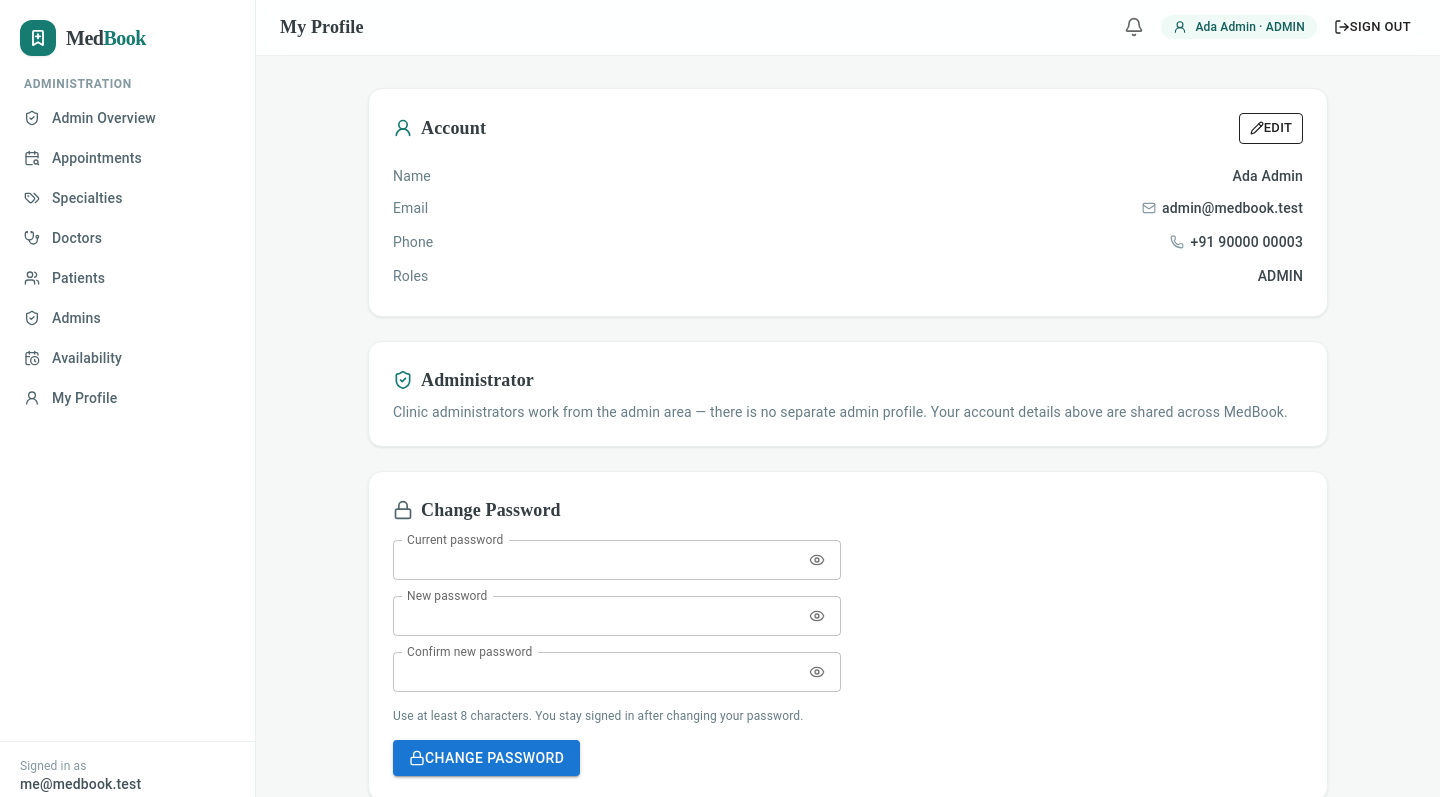
ProfilePage — account editing › cancels editing without saving
This screenshot has width=1440, height=797.
Click the button "Edit": {"x": 1271, "y": 128} [1239, 113, 1303, 144]
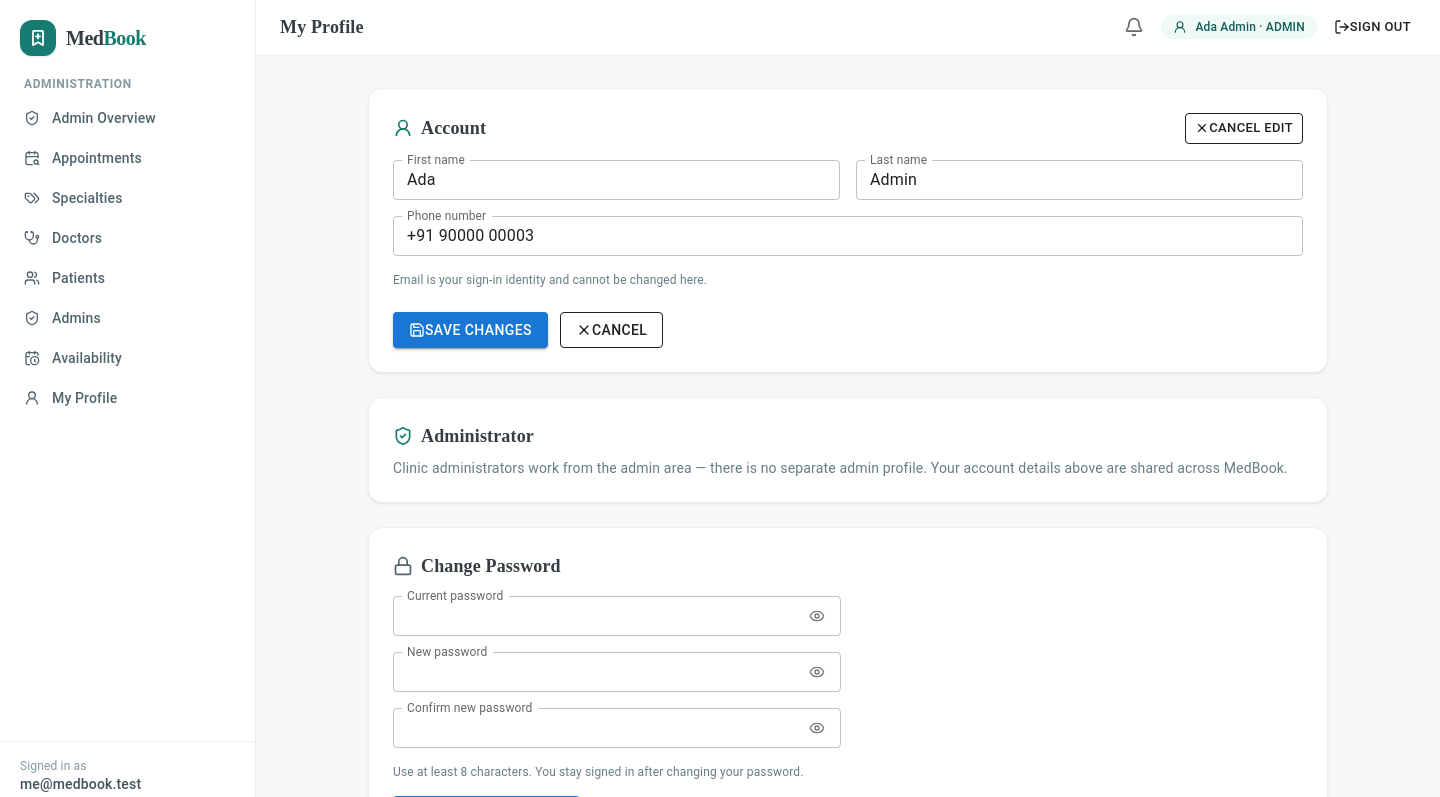
Replace the text in the field labelled "First name" with "Changed": {"x": 616, "y": 180} [393, 160, 840, 200]
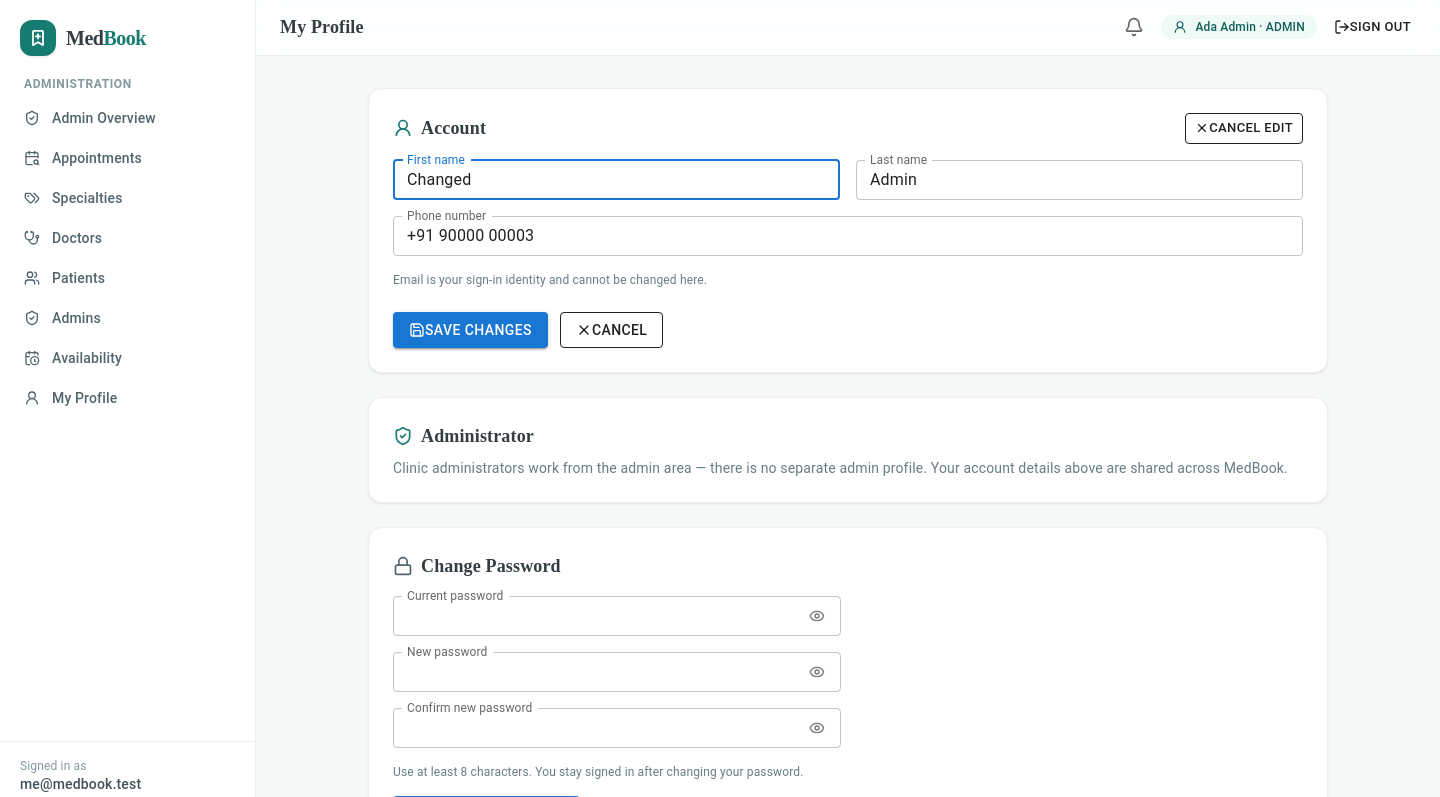
Click the button "Cancel Edit": {"x": 1244, "y": 128} [1185, 113, 1303, 144]
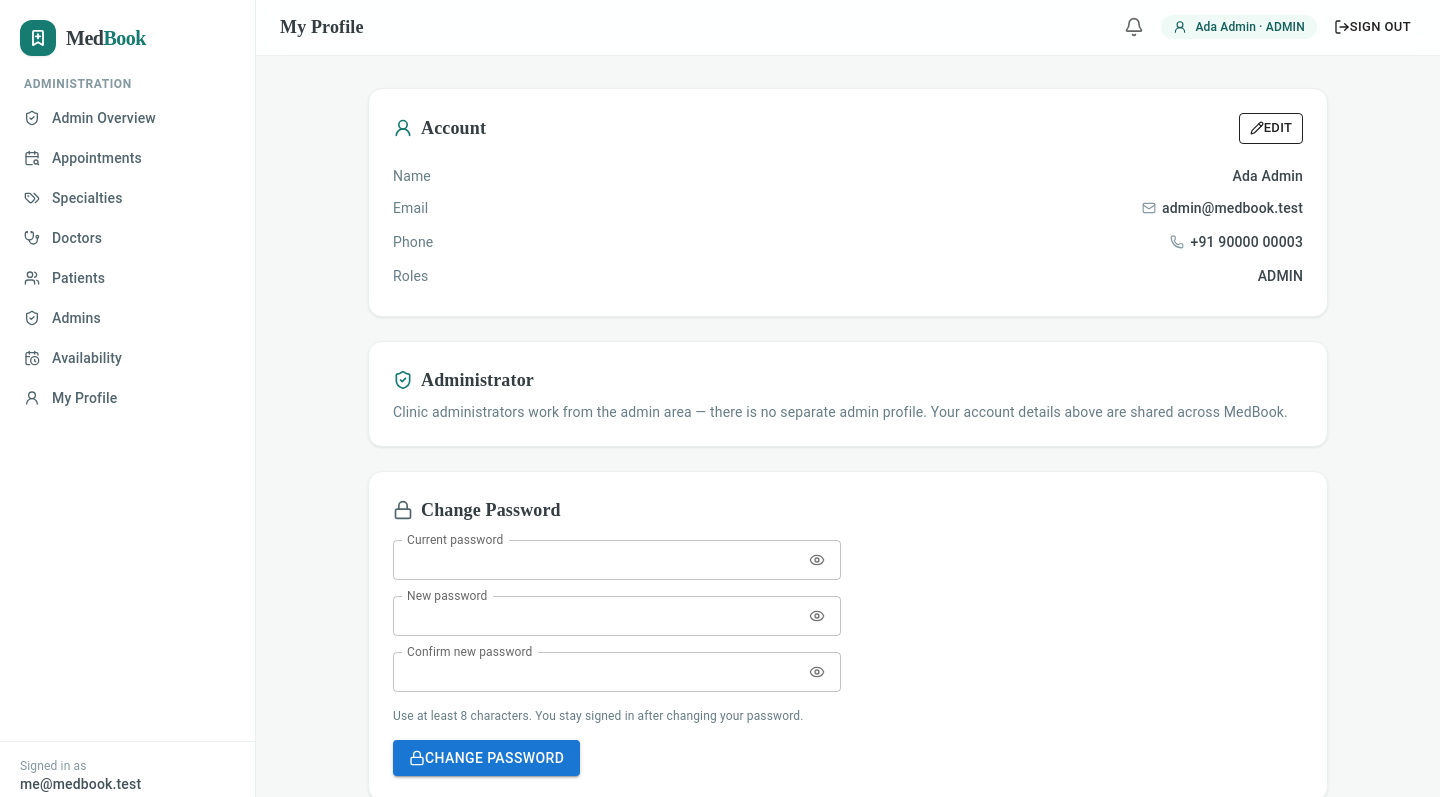
Now the text "Ada Admin" is shown, box [1233, 166, 1303, 186]
